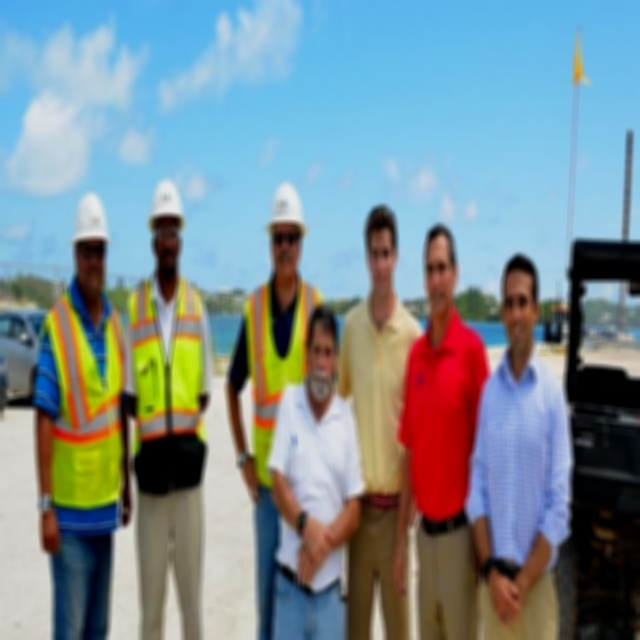Con_Casco: (269, 182, 307, 274), (152, 182, 184, 267)
Con_Chaleco: (39, 298, 120, 517), (131, 283, 201, 472)
Sin_Casco_Mascarrilla: (501, 255, 539, 353), (363, 205, 401, 287), (422, 228, 456, 313)
